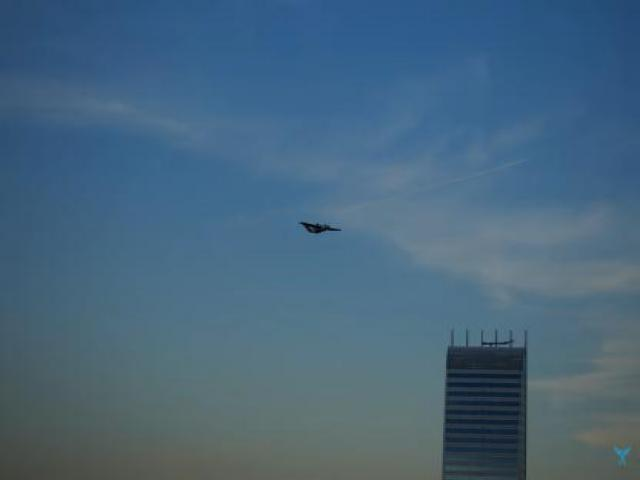uav: (294, 211, 346, 245)
